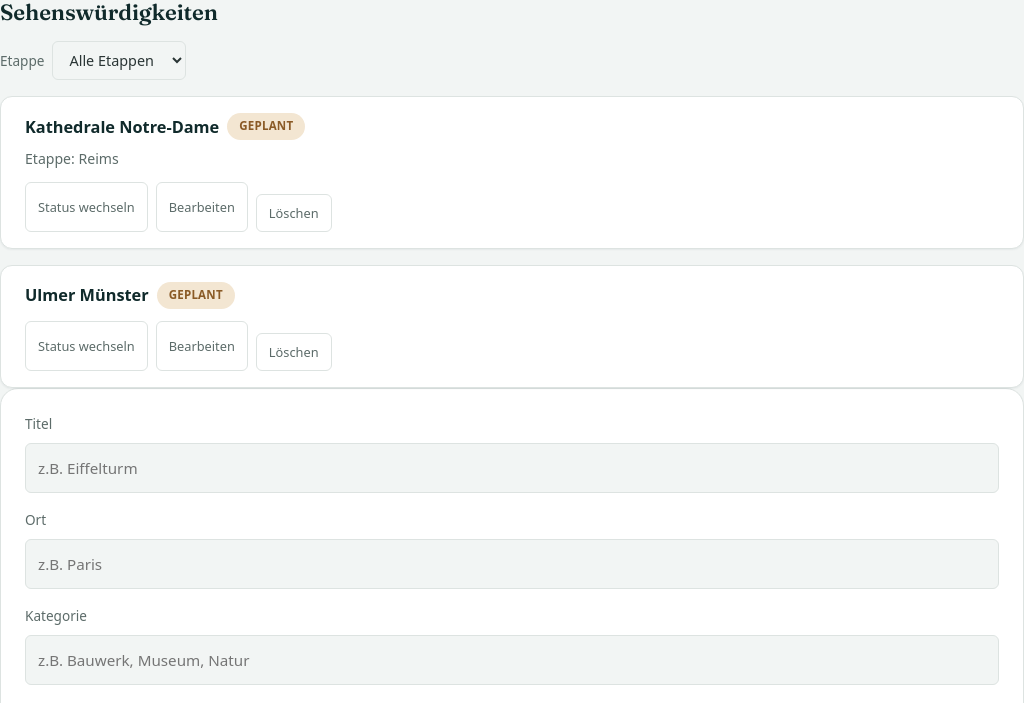
Etappen-Filter im Bereich Sehenswürdigkeiten › Nutzerpfad: Etappe waehlen -> nur die zugeordneten Eintraege bleiben sichtbar
Expected: the text "Kathedrale Notre-Dame" is shown, [25,114,219,140]
Select "Reims" in the dropdown labelled "Etappe" at (120, 61), box [52,42,186,80]
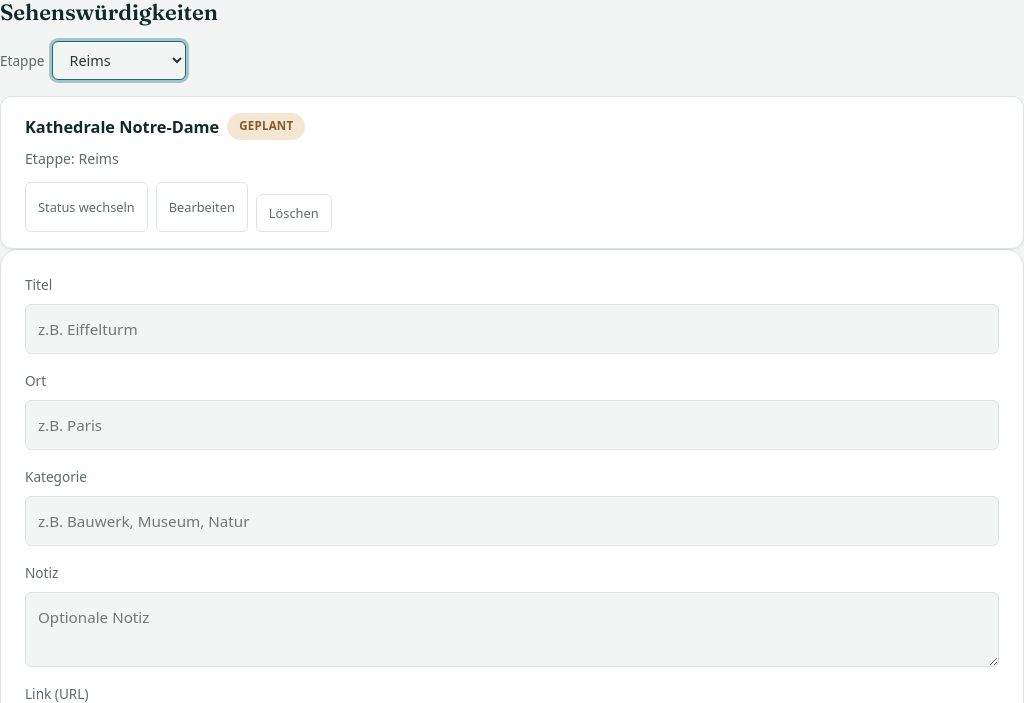
Expected: the text "Kathedrale Notre-Dame" is shown, [25,114,219,140]
Now the text "Ulmer Münster" is gone
